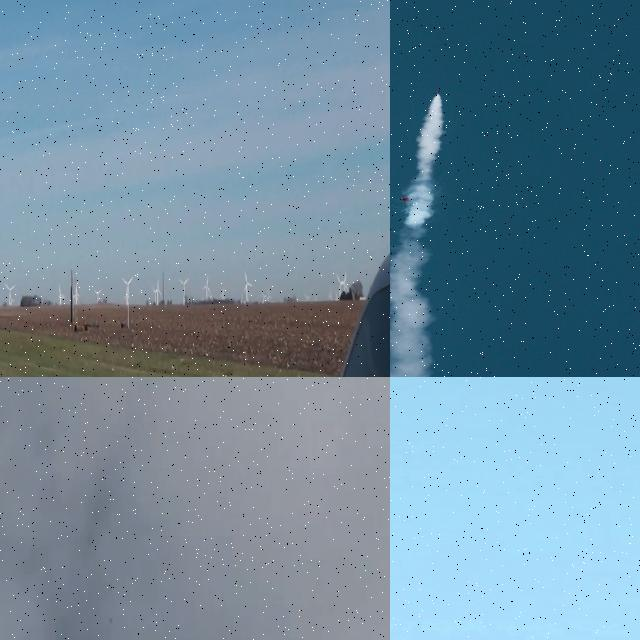Rocket: (70, 286, 72, 322), (433, 88, 441, 95)
